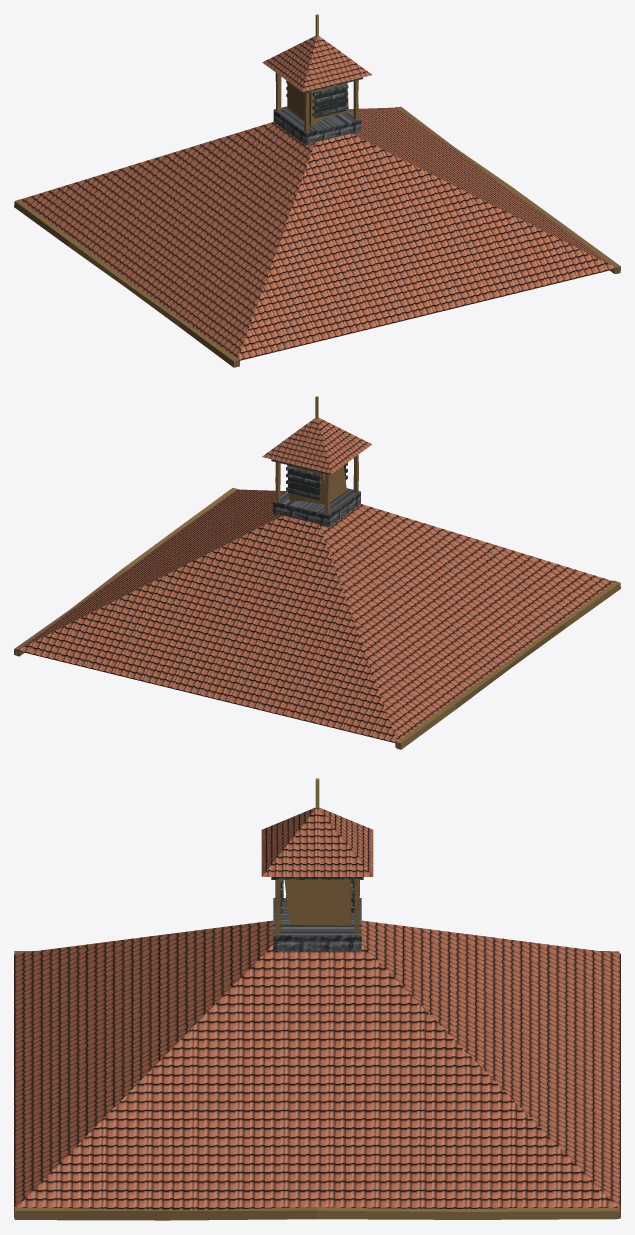
The model's file is town_Roof_guard_1_hip.glb.
3 views of the same model, one above another, from view 1: azimuth 30°, elevation 25°; view 2: azimuth 150°, elevation 25°; view 3: azimuth 270°, elevation 25° (orthographic). The views are drawn at different scales.
Visible parts, largest first — view 1: town_Roof_guard_1_hip.005; view 2: town_Roof_guard_1_hip.005; view 3: town_Roof_guard_1_hip.005.
Part boxes in pixels (x1=…): town_Roof_guard_1_hip.005: x1=14, y1=14, x2=620, y2=367; town_Roof_guard_1_hip.005: x1=14, y1=396, x2=620, y2=749; town_Roof_guard_1_hip.005: x1=14, y1=778, x2=620, y2=1220.
Bounding box in the file's own units: 7.13 × 3.96 × 7.
Materials: 3 (2 with a texture image).
